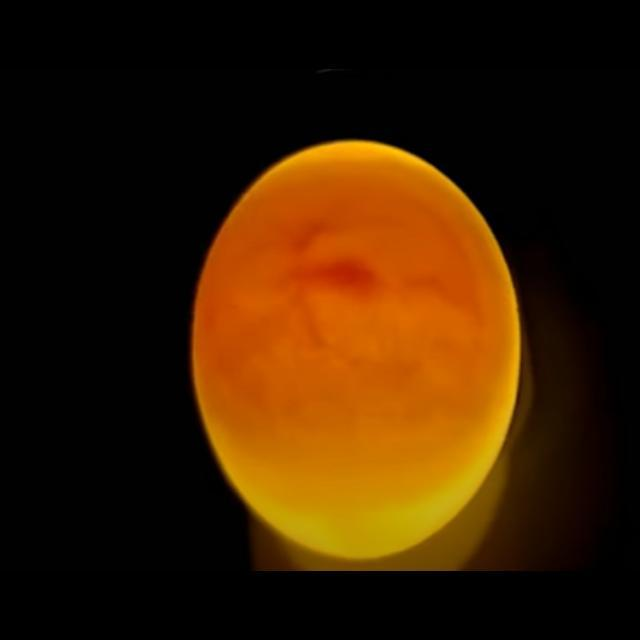Fertile: (182, 133, 524, 562)
